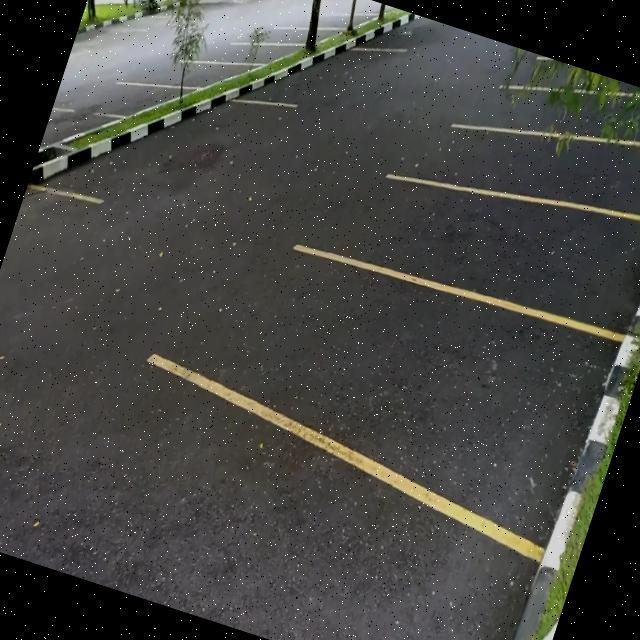empty: (248, 240, 620, 533), (374, 156, 640, 343), (490, 105, 640, 240), (160, 44, 239, 104), (94, 66, 168, 127), (234, 34, 286, 73), (282, 20, 331, 56)
